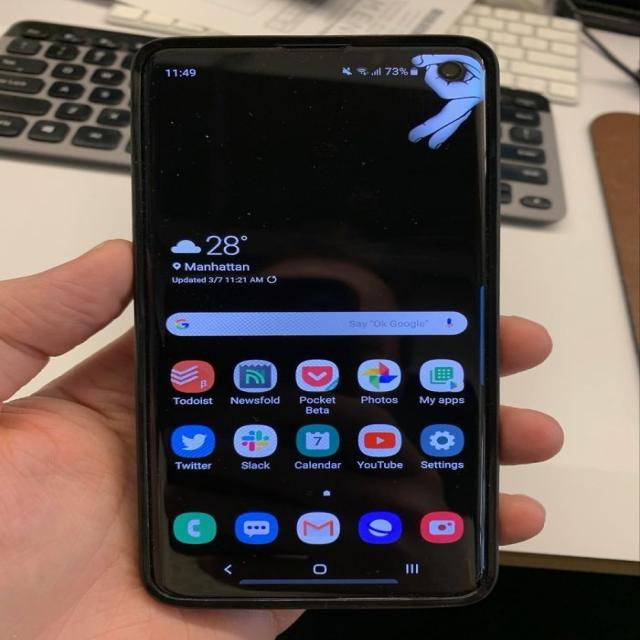phone: (112, 25, 515, 618)
